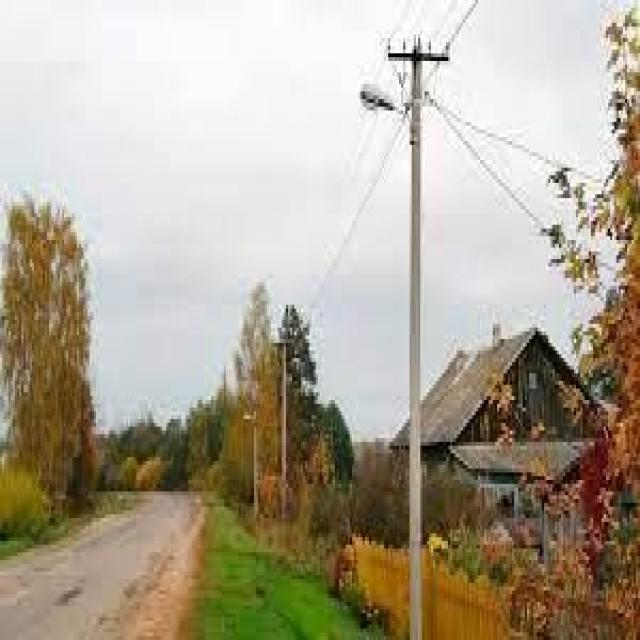pole: (393, 249, 428, 640)
